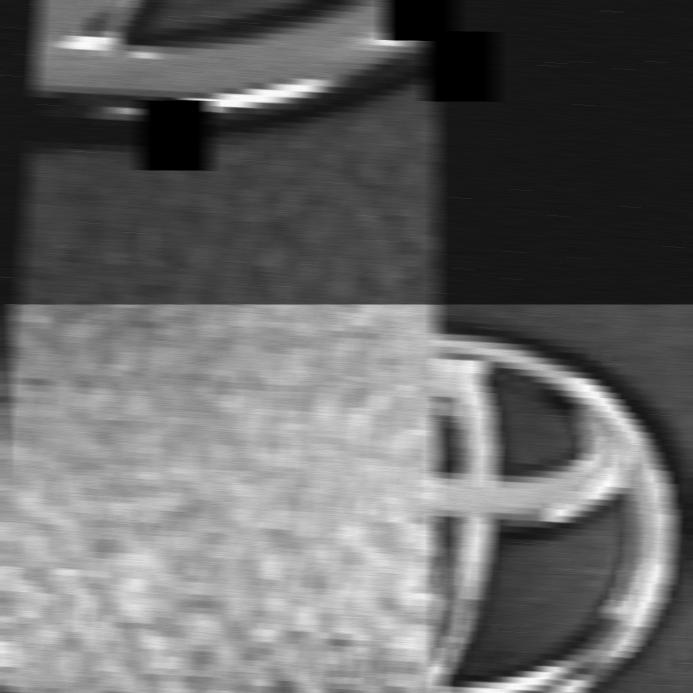AirbagV2: (0, 304, 439, 693), (0, 0, 439, 304), (433, 304, 693, 693)
